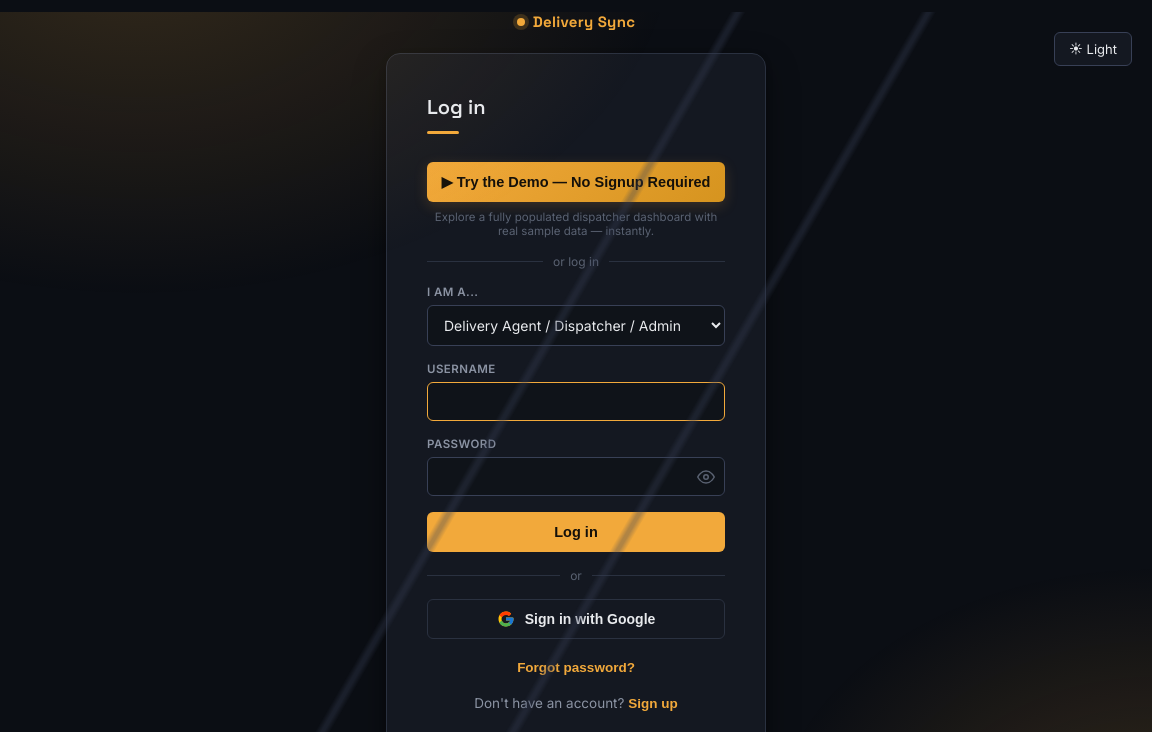
it: LoginPage › shows the backend's error message when the demo is unavailable
Click the button "▶ Try the Demo — No Signup Required" at [576, 182], box x1=427 y1=162 x2=725 y2=202
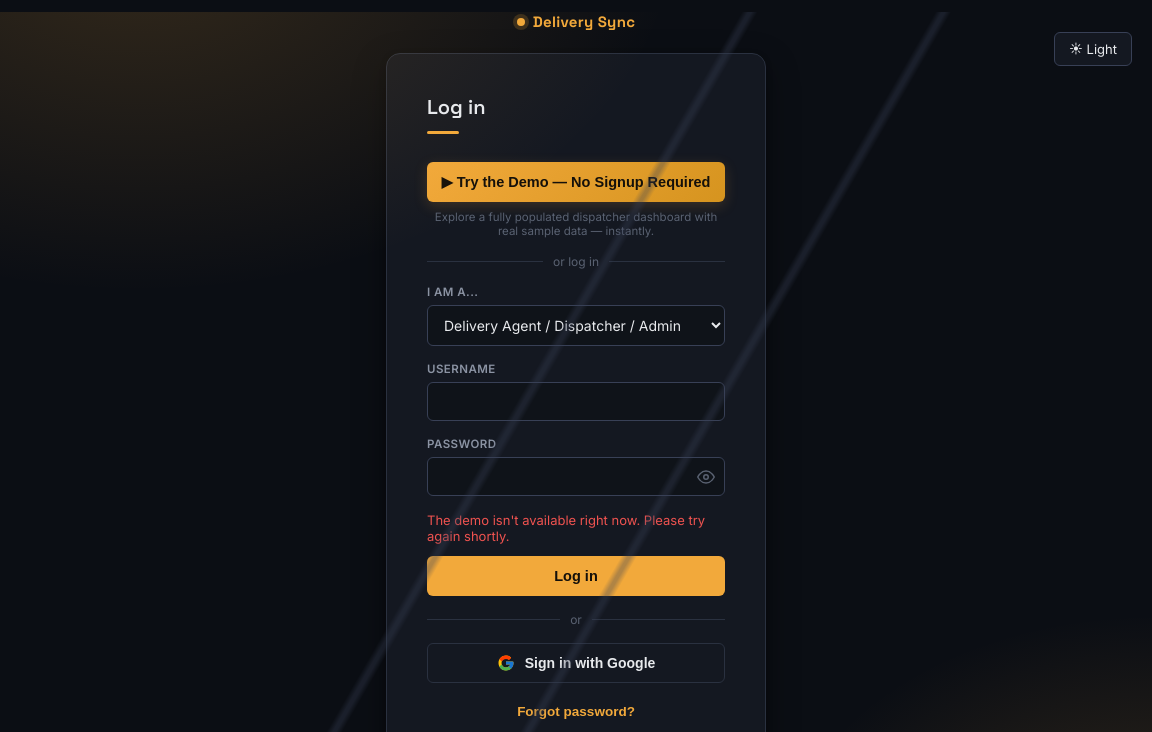
Result: the text "demo isn't available right now" is shown at x1=427 y1=512 x2=705 y2=544
